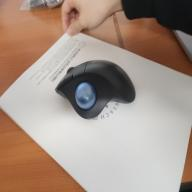mouse: (54, 58, 136, 120)
